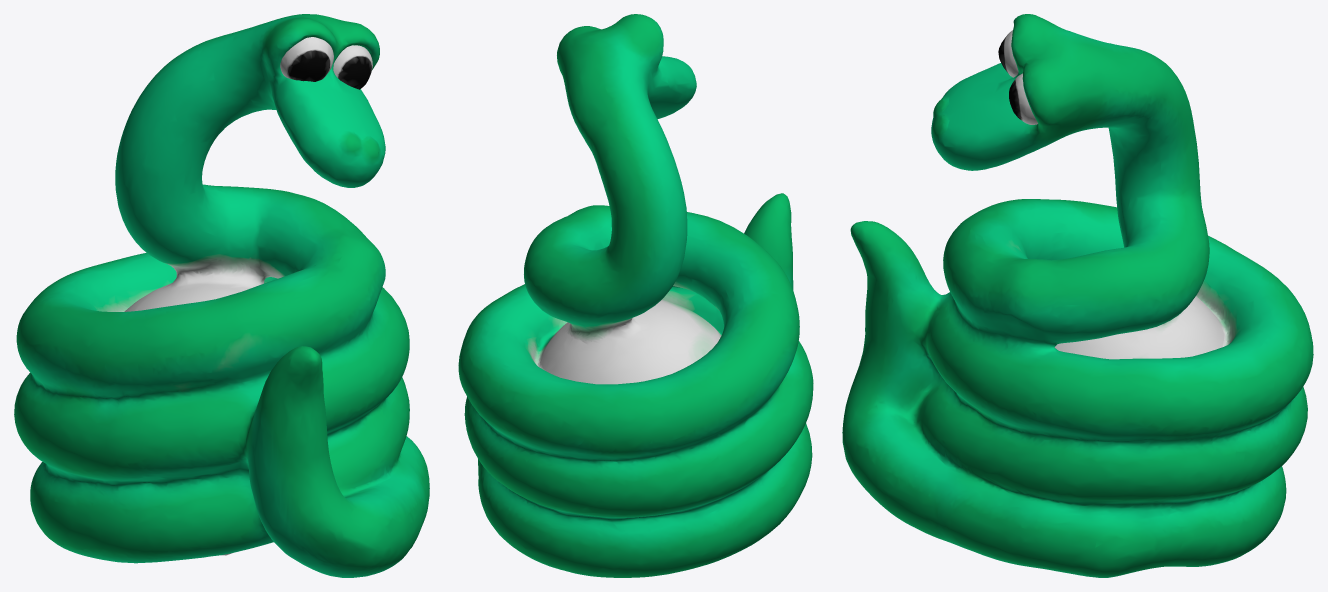
File: snake.glb
3 views of the same model, side by side, from view 1: azimuth 30°, elevation 25°; view 2: azimuth 150°, elevation 25°; view 3: azimuth 270°, elevation 25° (orthographic). The views are drawn at different scales.
Parts seen in each view (by area): view 1: Layer_1, Layer_2; view 2: Layer_1; view 3: Layer_1, Layer_2.
Part boxes in pixels (x1,y1,x2,y2): Layer_1: (14, 14, 429, 577); Layer_2: (280, 37, 372, 89); Layer_1: (458, 14, 813, 577); Layer_1: (842, 14, 1313, 577); Layer_2: (998, 30, 1037, 124).
Size of the model in its own units: 0.3592 by 0.5407 by 0.4298.
